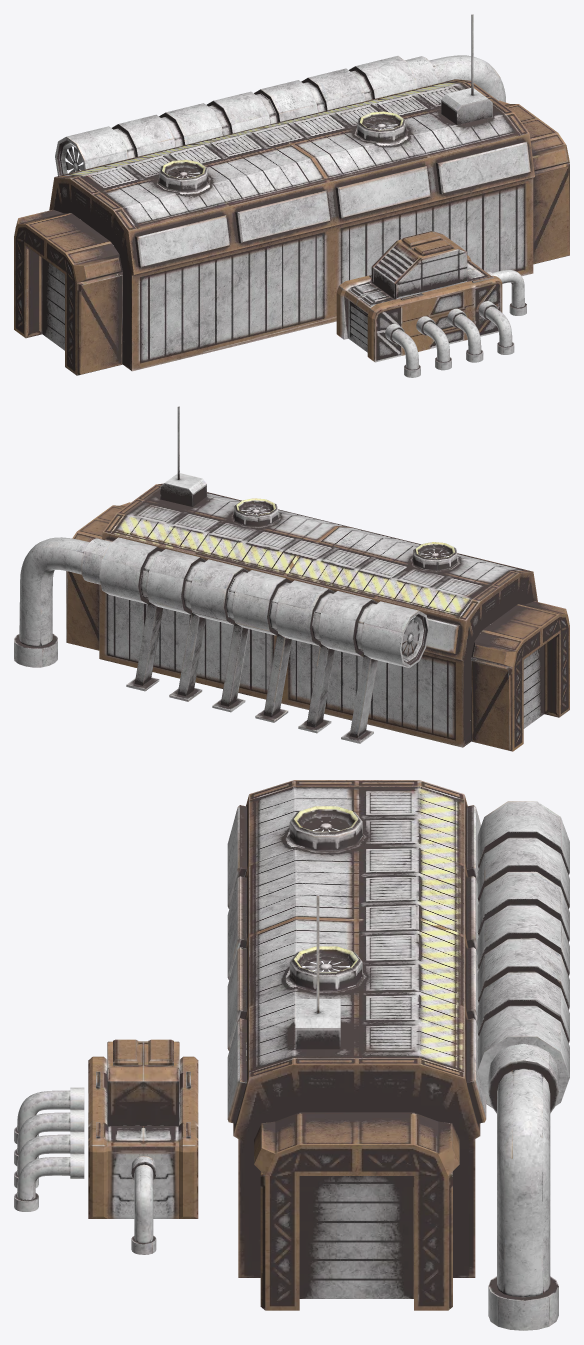
File: vehicle_factory.glb
The picture shows the model from 3 angles, top to bottom: view 1: azimuth 30°, elevation 25°; view 2: azimuth 150°, elevation 25°; view 3: azimuth 270°, elevation 25°; orthographic projection. The views are drawn at different scales.
Parts seen in each view (by area): view 1: Plane.003_Material.001_0; view 2: Plane.003_Material.001_0; view 3: Plane.003_Material.001_0.
Part boxes in pixels (x1,y1,x2,y2): Plane.003_Material.001_0: [14, 14, 569, 377]; Plane.003_Material.001_0: [14, 406, 569, 751]; Plane.003_Material.001_0: [14, 780, 569, 1330].
Bounding box in the file's own units: 1 × 0.4592 × 0.6357.
1 material, 1 textured.
